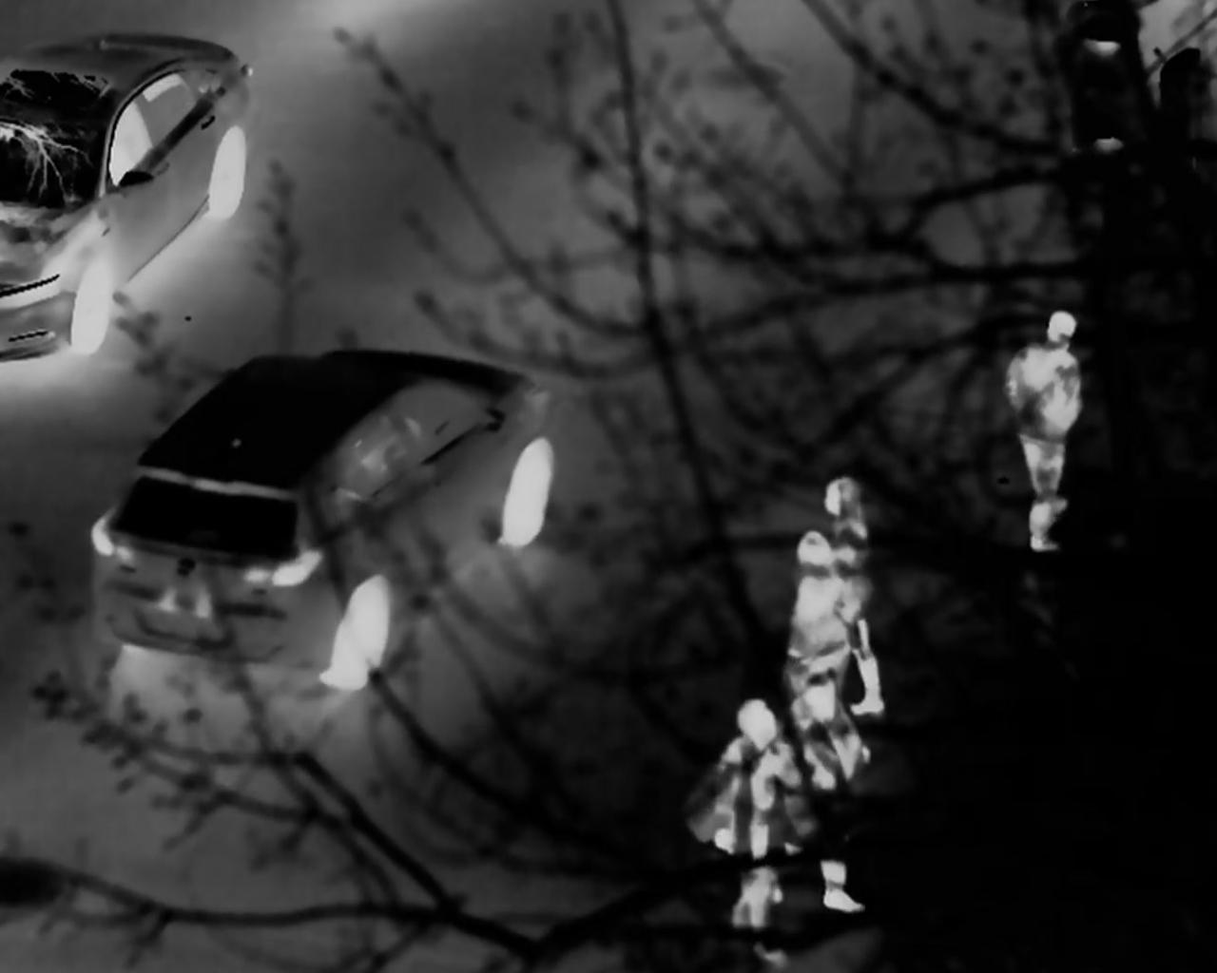person: (789, 525, 882, 903), (1011, 303, 1094, 544), (820, 468, 892, 732), (721, 697, 800, 907)
